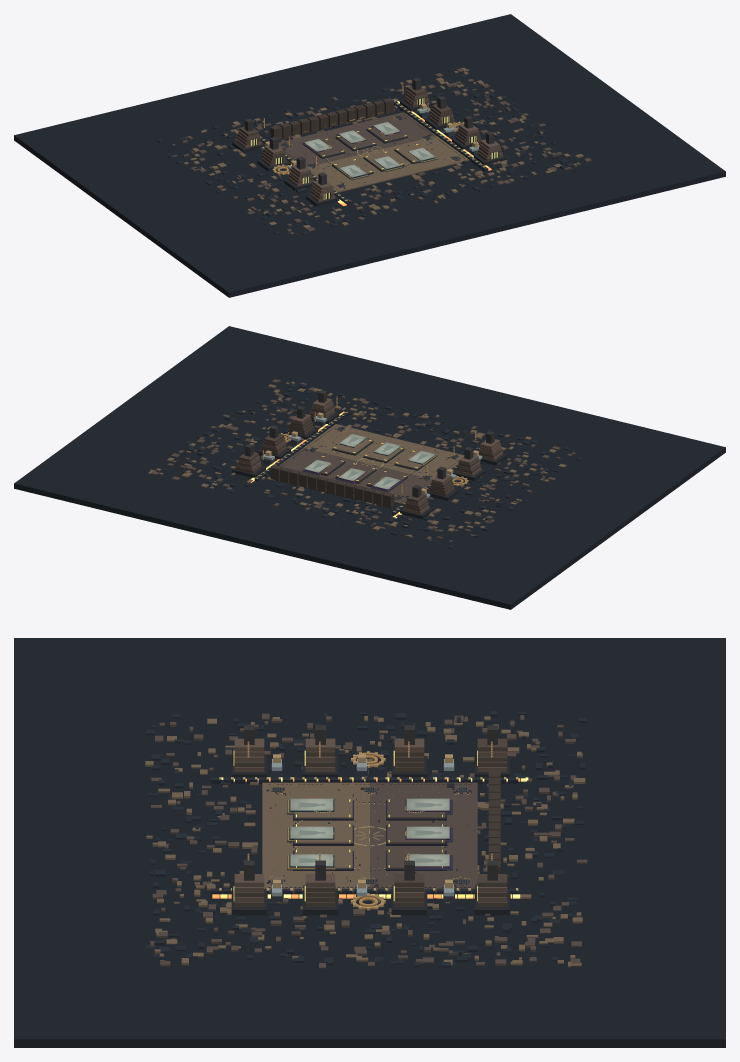
File: forge.glb
3 renders of one model, top to bottom at view 1: azimuth 30°, elevation 25°; view 2: azimuth 150°, elevation 25°; view 3: azimuth 270°, elevation 25°, orthographic. The views are drawn at different scales.
Visible parts, largest first — view 1: Bedrock, Outer_Rubble, Furnace_Masonry, Friendly_Floor, Enemy_Floor, Foundry_Backwall, Six_Grounded_Foundations, Furnace_Plinths, Furnace_Chimneys, Border_Coping; view 2: Bedrock, Outer_Rubble, Furnace_Masonry, Friendly_Floor, Foundry_Backwall, Enemy_Floor, Six_Grounded_Foundations, Furnace_Plinths, Furnace_Chimneys, Border_Coping; view 3: Bedrock, Outer_Rubble, Furnace_Masonry, Enemy_Floor, Friendly_Floor, Six_Grounded_Foundations, Furnace_Plinths, Border_Coping, Furnace_Chimneys, Foundry_Backwall, Molten_Runoff.
Part boxes in pixels (<box>): Bedrock: <box>14,14,725,297</box>; Outer_Rubble: <box>157,67,591,235</box>; Furnace_Masonry: <box>236,86,502,202</box>; Friendly_Floor: <box>308,136,469,192</box>; Enemy_Floor: <box>278,112,436,167</box>; Foundry_Backwall: <box>270,98,393,140</box>; Six_Grounded_Foundations: <box>304,127,422,179</box>; Furnace_Plinths: <box>232,100,506,206</box>; Furnace_Chimneys: <box>244,78,494,185</box>; Border_Coping: <box>260,101,488,205</box>; Bedrock: <box>14,326,725,609</box>; Outer_Rubble: <box>148,379,582,548</box>; Furnace_Masonry: <box>236,398,502,514</box>; Friendly_Floor: <box>303,424,464,479</box>; Foundry_Backwall: <box>270,465,394,508</box>; Enemy_Floor: <box>279,448,431,504</box>; Six_Grounded_Foundations: <box>317,439,435,491</box>; Furnace_Plinths: <box>232,412,506,519</box>; Furnace_Chimneys: <box>244,390,494,497</box>; Border_Coping: <box>254,410,478,514</box>; Bedrock: <box>14,638,725,1047</box>; Outer_Rubble: <box>145,711,587,968</box>; Furnace_Masonry: <box>234,738,507,907</box>; Enemy_Floor: <box>370,782,477,892</box>; Friendly_Floor: <box>262,782,369,892</box>; Six_Grounded_Foundations: <box>293,799,446,870</box>; Furnace_Plinths: <box>231,756,510,915</box>; Border_Coping: <box>211,777,518,895</box>; Furnace_Chimneys: <box>244,725,497,880</box>; Foundry_Backwall: <box>488,770,500,873</box>; Molten_Runoff: <box>212,777,528,898</box>.
Bounding box in the file's own units: 48 × 2.9 × 36.
43 materials, 1 textured.
